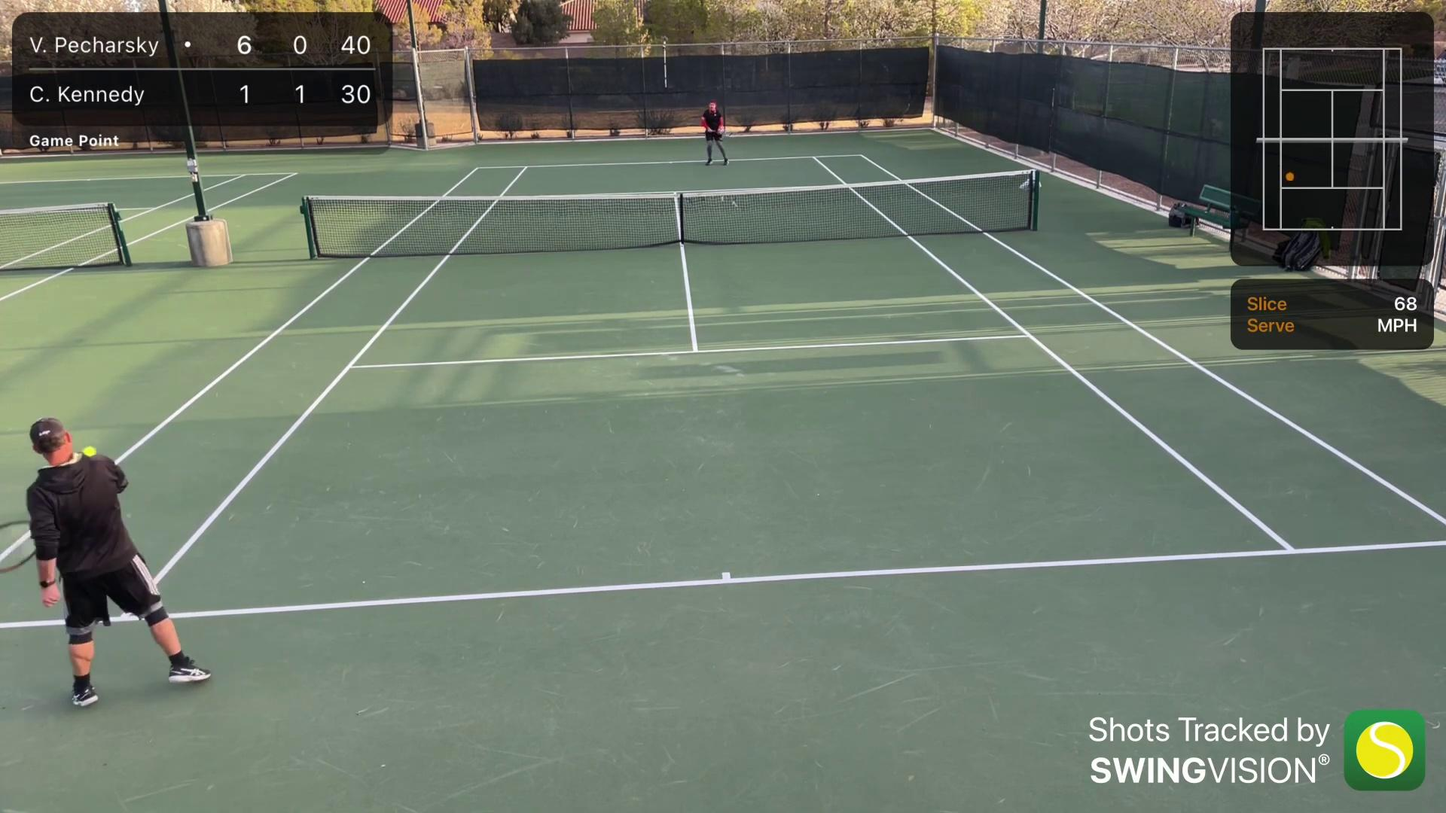ball: (80, 445, 99, 457)
